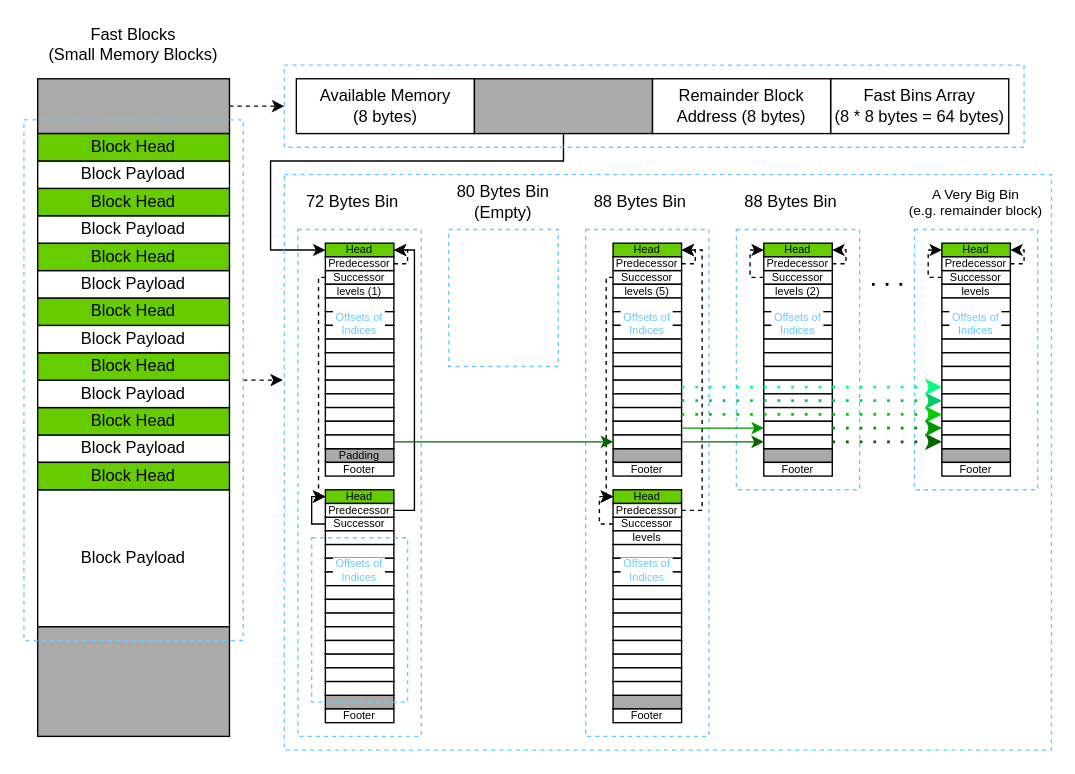
The diagram is 1075 pixels wide and 774 high, and some of its shapes have lost their labels. The centre of each missing label's shape, as x and y in pixels:
"Fast Blocks" belongs at point 132,680.
"First Sorted Block Address (8 bytes)" belongs at point 563,105.
"Global Meta Data" belongs at point 132,105.
